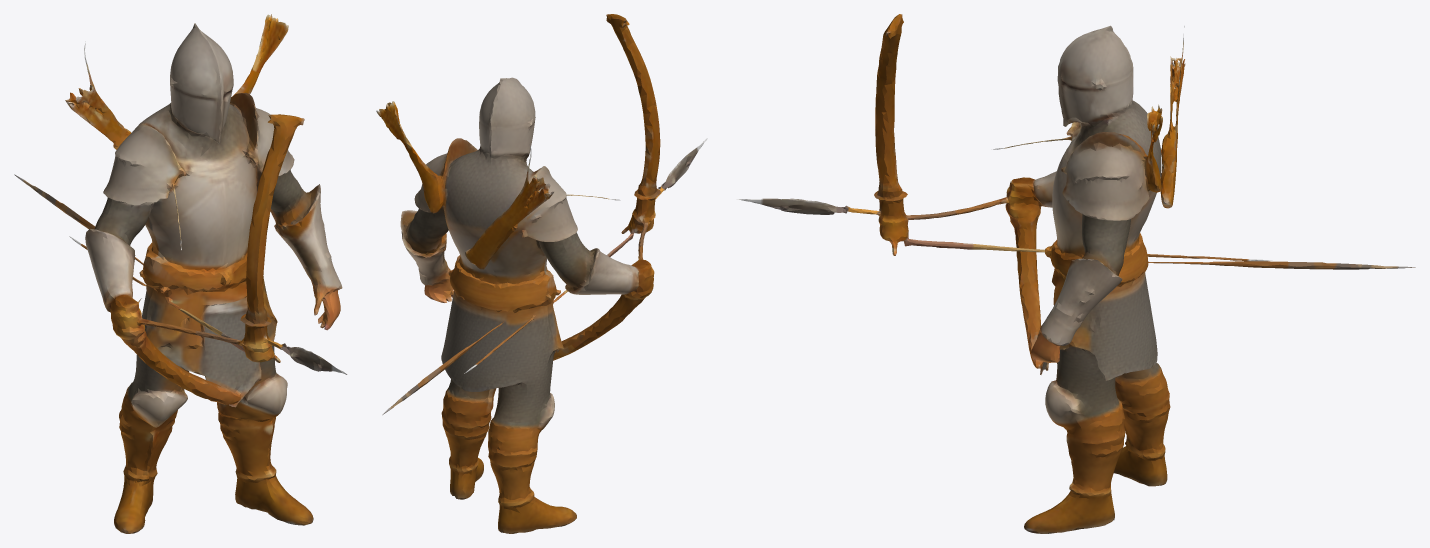
The model's file is human_archer.glb.
3 views of the same model, side by side, from view 1: azimuth 30°, elevation 25°; view 2: azimuth 150°, elevation 25°; view 3: azimuth 270°, elevation 25° (orthographic). The views are drawn at different scales.
Visible parts, largest first — view 1: human_archer; view 2: human_archer; view 3: human_archer.
Boxes of the visible parts, x1,y1,x2,y2 form: human_archer: (14, 14, 347, 533); human_archer: (376, 14, 707, 533); human_archer: (736, 14, 1415, 533).
Size of the model in its own units: 0.7621 by 1.46 by 1.9.
1 material, 1 textured.
